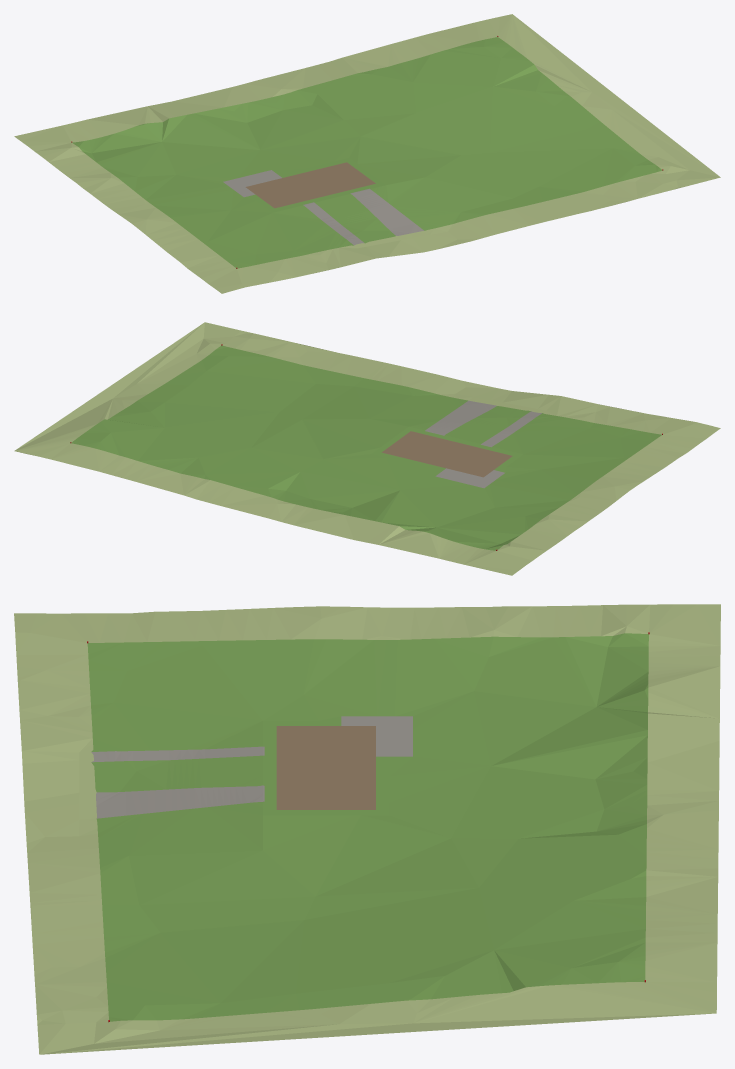
The model's file is teren.dae.
The picture shows the model from 3 angles, top to bottom: view 1: azimuth 30°, elevation 25°; view 2: azimuth 150°, elevation 25°; view 3: azimuth 270°, elevation 25°; orthographic projection. The views are drawn at different scales.
Visible parts, largest first — view 1: Teren – działka, Teren – otoczenie, Teren – pod budynkami, Teren – utwardzenia; view 2: Teren – działka, Teren – otoczenie, Teren – pod budynkami, Teren – utwardzenia; view 3: Teren – działka, Teren – otoczenie, Teren – pod budynkami, Teren – utwardzenia.
Boxes of the visible parts, left/top/right/bottom form: Teren – działka: left=72, top=37, right=662, bottom=268; Teren – otoczenie: left=14, top=14, right=720, bottom=293; Teren – pod budynkami: left=245, top=162, right=375, bottom=208; Teren – utwardzenia: left=223, top=170, right=424, bottom=245; Teren – działka: left=71, top=345, right=661, bottom=550; Teren – otoczenie: left=14, top=322, right=720, bottom=575; Teren – pod budynkami: left=382, top=431, right=512, bottom=477; Teren – utwardzenia: left=425, top=400, right=541, bottom=488; Teren – działka: left=87, top=633, right=648, bottom=1021; Teren – otoczenie: left=14, top=604, right=720, bottom=1054; Teren – pod budynkami: left=276, top=726, right=375, bottom=809; Teren – utwardzenia: left=91, top=716, right=412, bottom=818.
Size of the model in its own units: 8306 by 5908 by 360.
